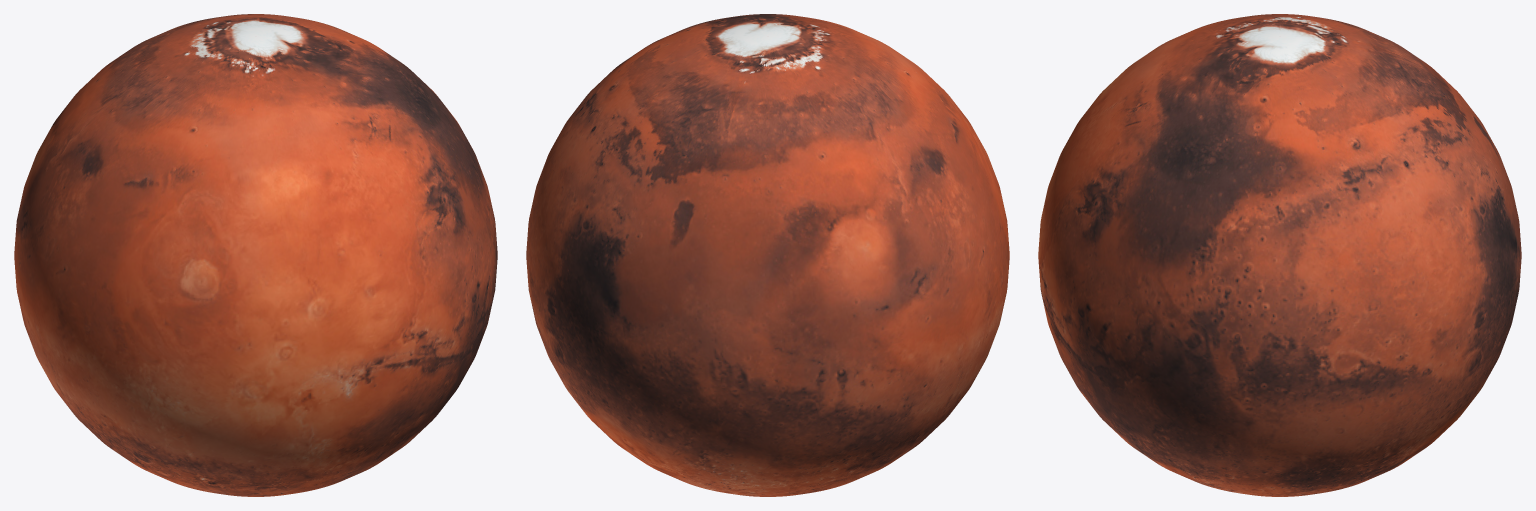
File: mars.glb
3 views of the same model, side by side, from view 1: azimuth 30°, elevation 25°; view 2: azimuth 150°, elevation 25°; view 3: azimuth 270°, elevation 25° (orthographic).
Parts seen in each view (by area): view 1: Sphere; view 2: Sphere; view 3: Sphere.
Part boxes in pixels (x1=…): Sphere: x1=14, y1=14, x2=497, y2=496; Sphere: x1=526, y1=14, x2=1009, y2=496; Sphere: x1=1038, y1=14, x2=1521, y2=496.
Size of the model in its own units: 200 by 200 by 200.
Materials: 1 (1 with a texture image).
